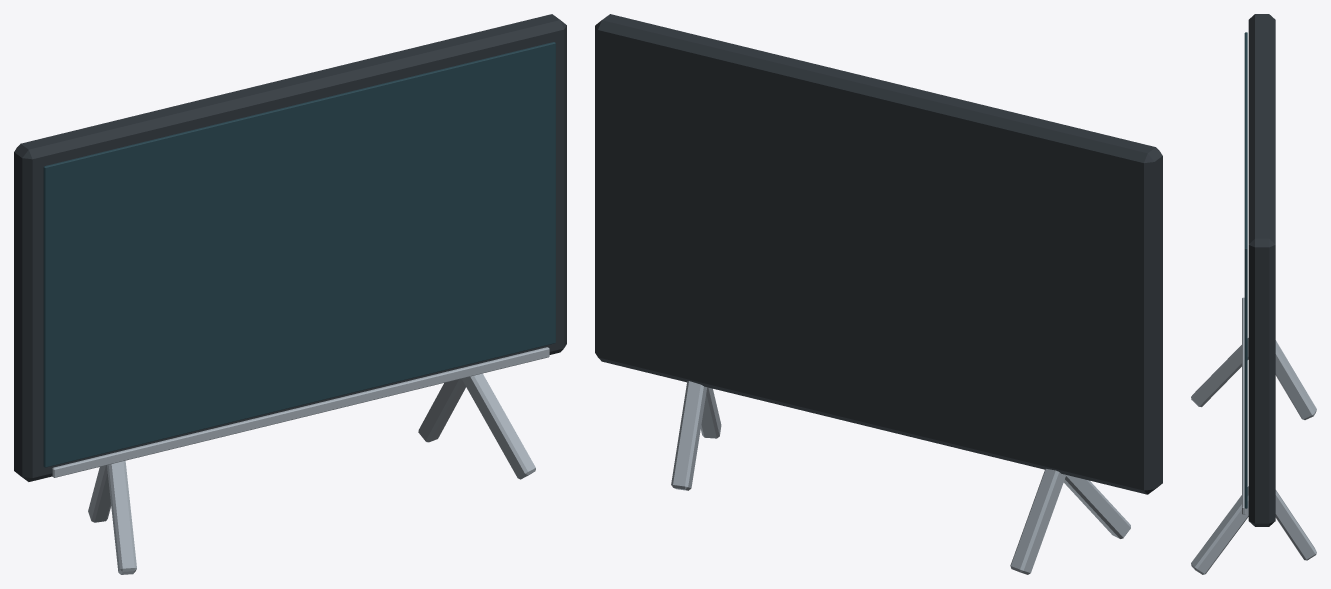
Rendered from TV_Modern_Stand.fbx.
The picture shows the model from 3 angles, left to right: view 1: azimuth 30°, elevation 25°; view 2: azimuth 150°, elevation 25°; view 3: azimuth 270°, elevation 25°; orthographic projection. The views are drawn at different scales.
Parts seen in each view (by area): view 1: TV_Modern_Stand; view 2: TV_Modern_Stand; view 3: TV_Modern_Stand.
Boxes of the visible parts, x1,y1,x2,y2 form: TV_Modern_Stand: (14, 14, 566, 574); TV_Modern_Stand: (595, 14, 1162, 574); TV_Modern_Stand: (1191, 14, 1316, 574).
Bounding box in the file's own units: 360 × 264 × 83.18.
